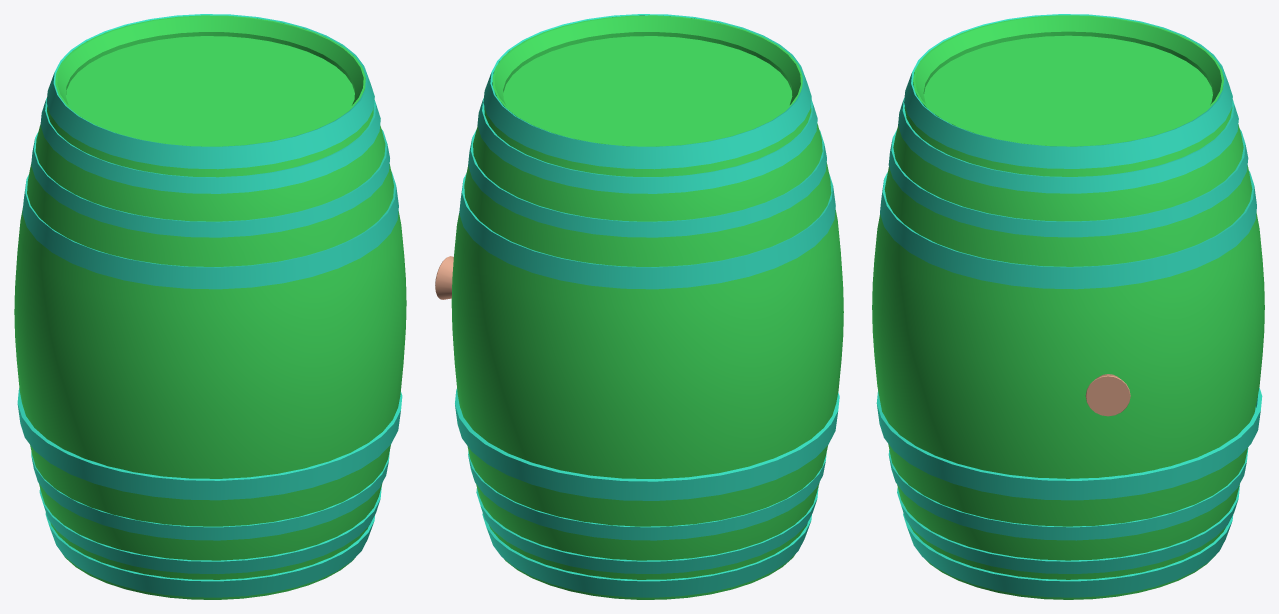
The model's file is tonneauxA.fbx.
The picture shows the model from 3 angles, left to right: view 1: azimuth 30°, elevation 25°; view 2: azimuth 150°, elevation 25°; view 3: azimuth 270°, elevation 25°; orthographic projection.
Parts seen in each view (by area): view 1: tonneauxA; view 2: tonneauxA; view 3: tonneauxA.
Part boxes in pixels (x1=…): tonneauxA: x1=14, y1=14, x2=406, y2=599; tonneauxA: x1=435, y1=14, x2=843, y2=599; tonneauxA: x1=872, y1=14, x2=1264, y2=599.
Size of the model in its own units: 89.3 by 110 by 86.31.
